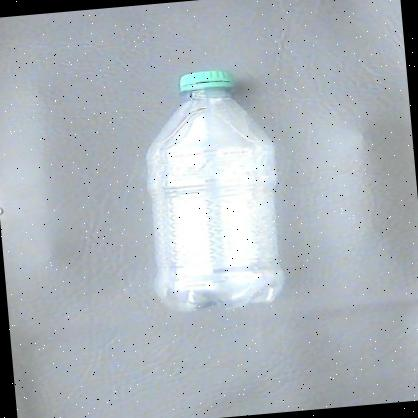bottle: (134, 62, 298, 320)
cap: (176, 68, 237, 102)
